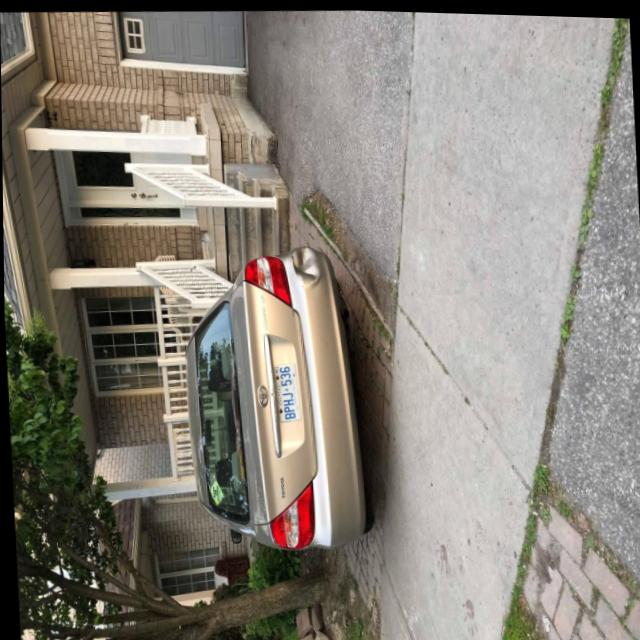Dent: (286, 239, 322, 288)
